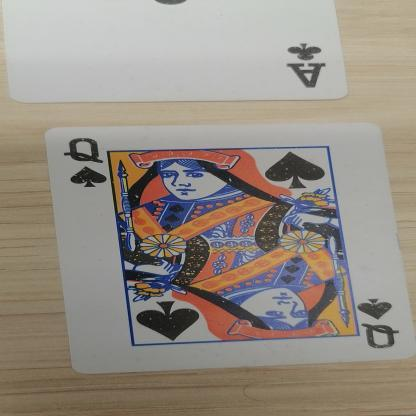QS: (52, 132, 118, 204), (336, 292, 410, 348)
